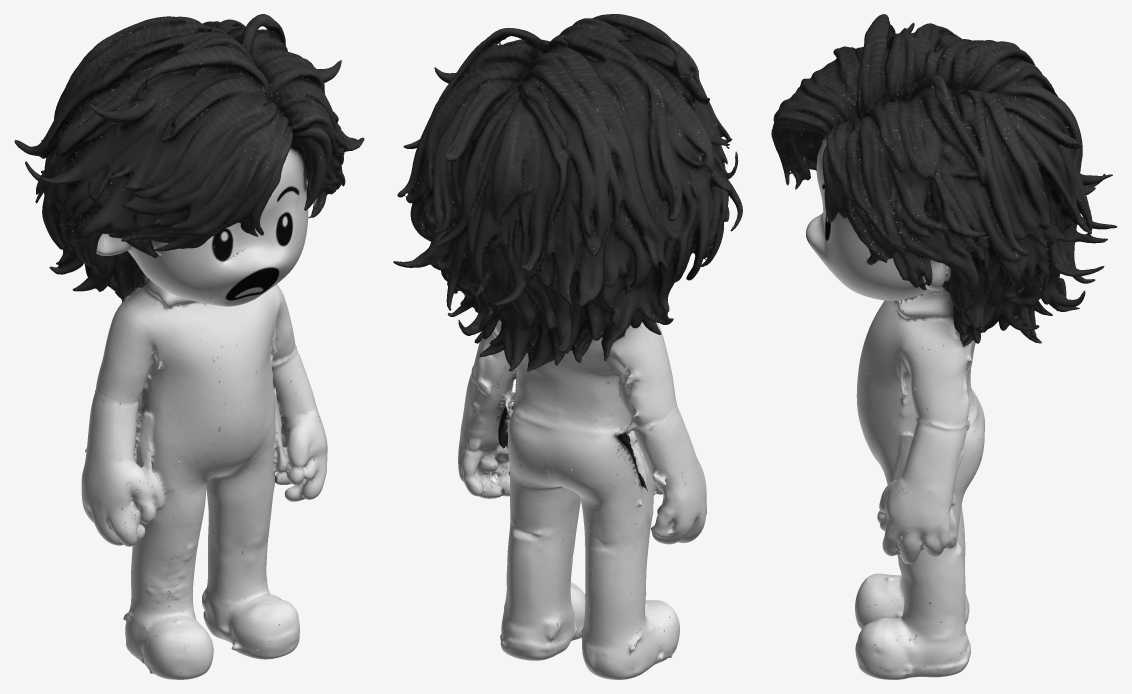
File: girlChar_Shocked.glb
3 views of the same model, side by side, from view 1: azimuth 30°, elevation 25°; view 2: azimuth 150°, elevation 25°; view 3: azimuth 270°, elevation 25° (orthographic). The views are drawn at different scales.
Visible parts, largest first — view 1: Char_Girl_Shocked; view 2: Char_Girl_Shocked; view 3: Char_Girl_Shocked.
Boxes of the visible parts, bbox=[...] form: Char_Girl_Shocked: bbox=[14, 14, 364, 679]; Char_Girl_Shocked: bbox=[393, 14, 742, 679]; Char_Girl_Shocked: bbox=[771, 14, 1117, 679].
Size of the model in its own units: 0.6237 by 1.2 by 0.6178.
Materials: 1 (1 with a texture image).
